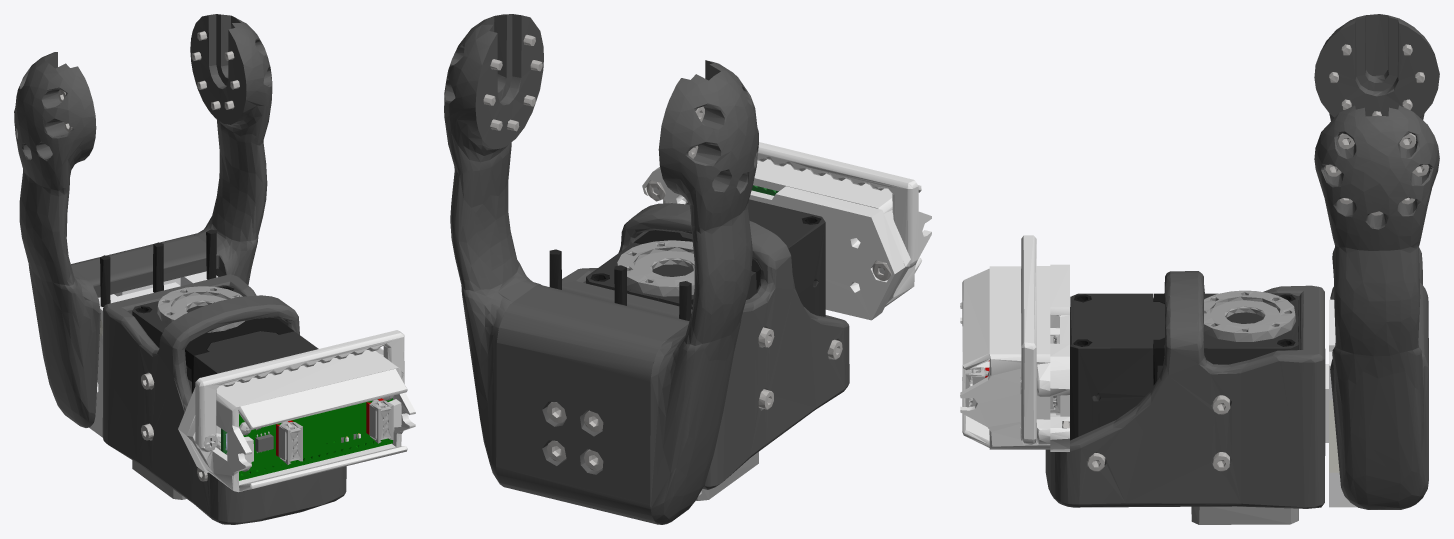
File: link_leg_1_L_1.obj
3 renders of one model, left to right at view 1: azimuth 30°, elevation 25°; view 2: azimuth 150°, elevation 25°; view 3: azimuth 270°, elevation 25°, orthographic. The views are drawn at different scales.
Visible parts, largest first — view 1: link_leg_1_L_1; view 2: link_leg_1_L_1; view 3: link_leg_1_L_1.
Part boxes in pixels (left/top/right/bottom): link_leg_1_L_1: left=14, top=14, right=415, bottom=524; link_leg_1_L_1: left=444, top=14, right=931, bottom=524; link_leg_1_L_1: left=960, top=14, right=1439, bottom=524.
Size of the model in its own units: 78.04 by 126 by 123.
